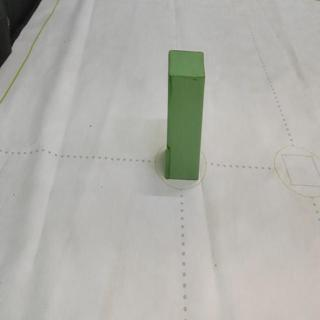greenbox: (166, 48, 204, 180)
